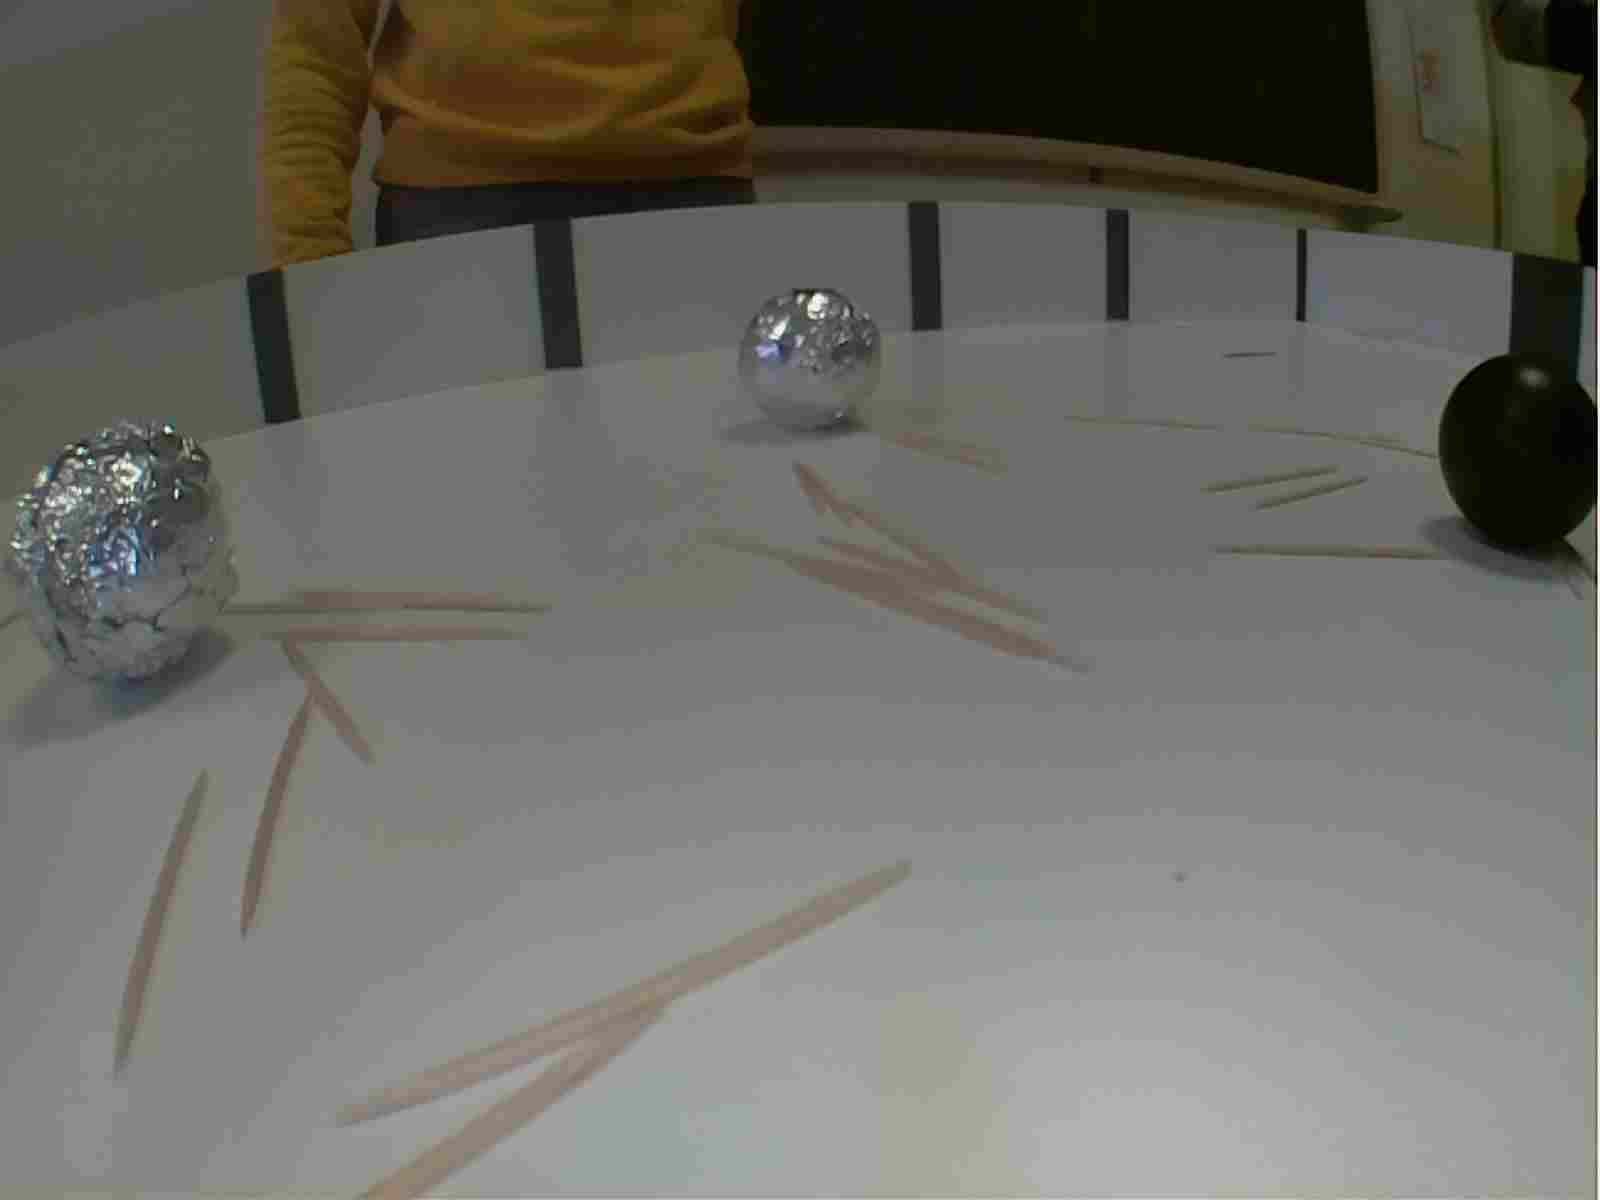bianca: (1, 416, 244, 696), (736, 284, 893, 437)
nera: (1432, 345, 1600, 561)
